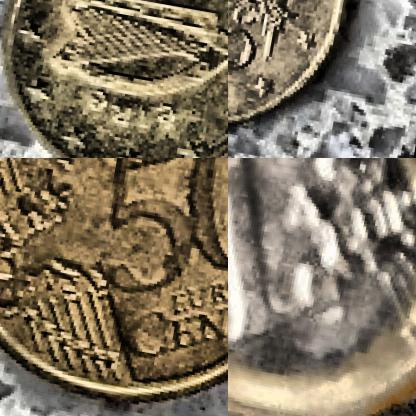coin: (0, 158, 227, 415), (228, 158, 415, 415), (0, 0, 227, 157), (228, 0, 366, 155)
